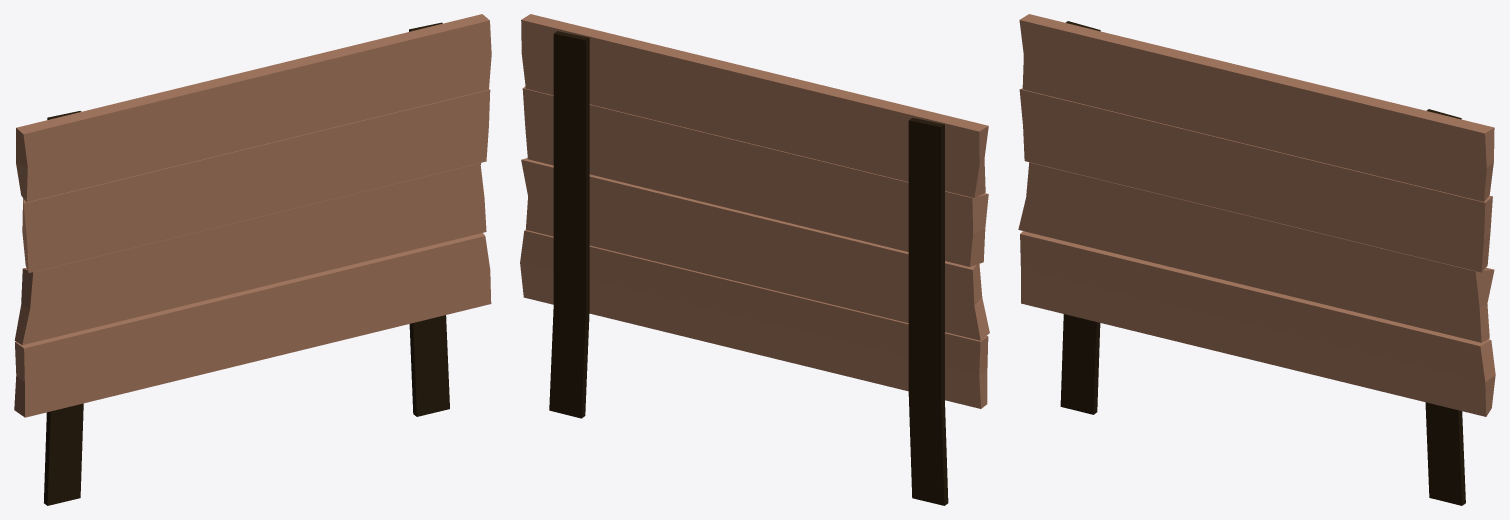
File: Sign.fbx
The picture shows the model from 3 angles, left to right: view 1: azimuth 30°, elevation 25°; view 2: azimuth 150°, elevation 25°; view 3: azimuth 330°, elevation 25°; orthographic projection.
Visible parts, largest first — view 1: Sign; view 2: Sign; view 3: Sign.
Part boxes in pixels (x1,y1,x2,y2): Sign: (14, 14, 491, 505); Sign: (520, 14, 989, 505); Sign: (1018, 14, 1495, 505).
Bounding box in the file's own units: 391 × 308 × 17.96.
